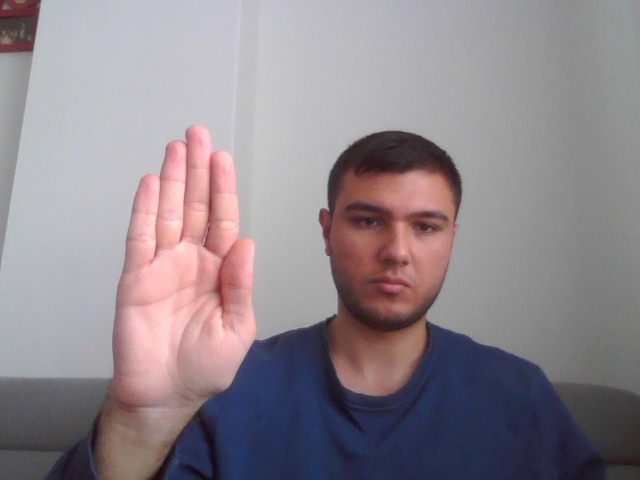Hello: (111, 123, 258, 409)
